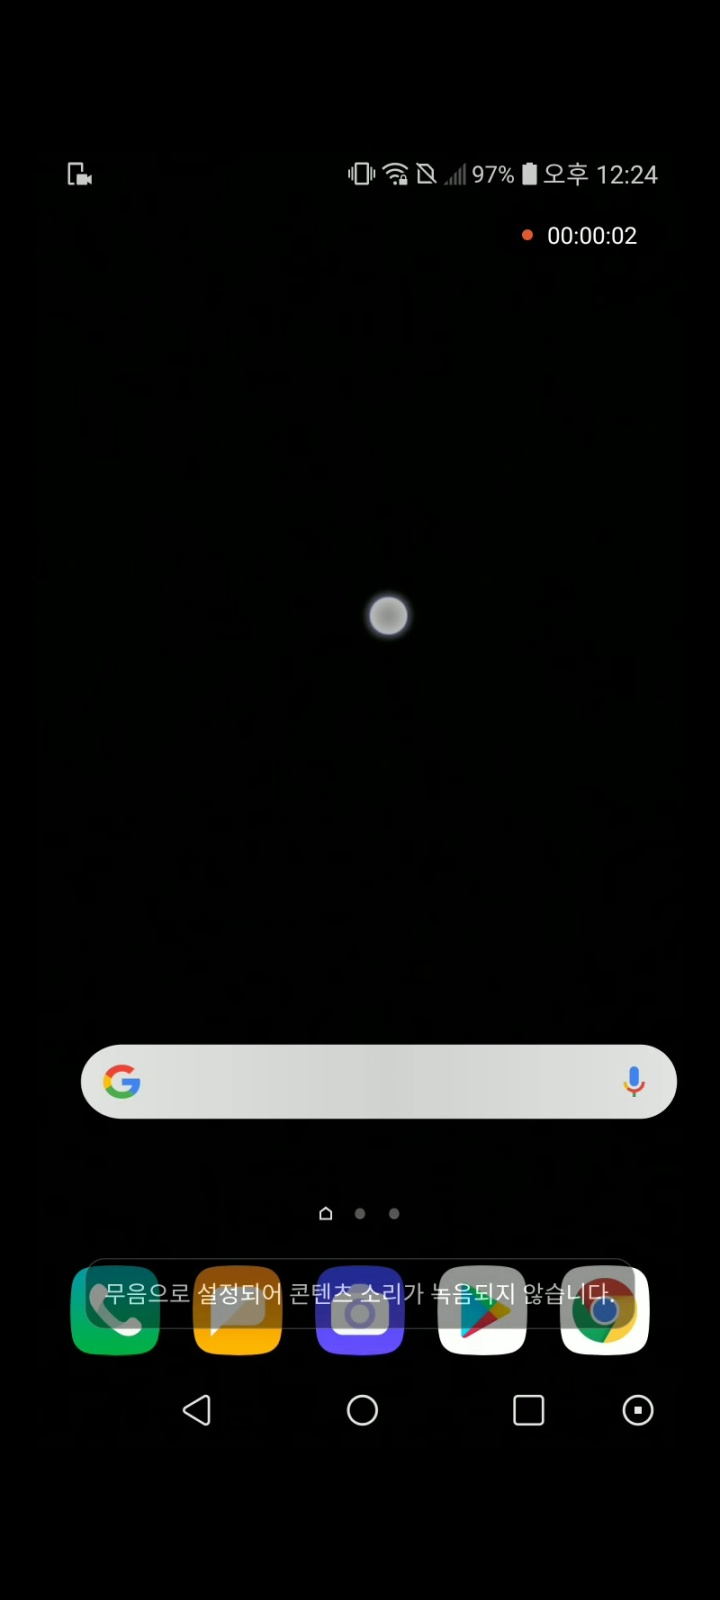Cursor: (365, 595, 410, 640)
